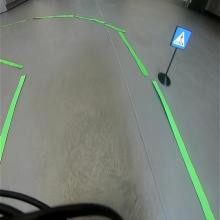crosswalk: (170, 25, 192, 50)
